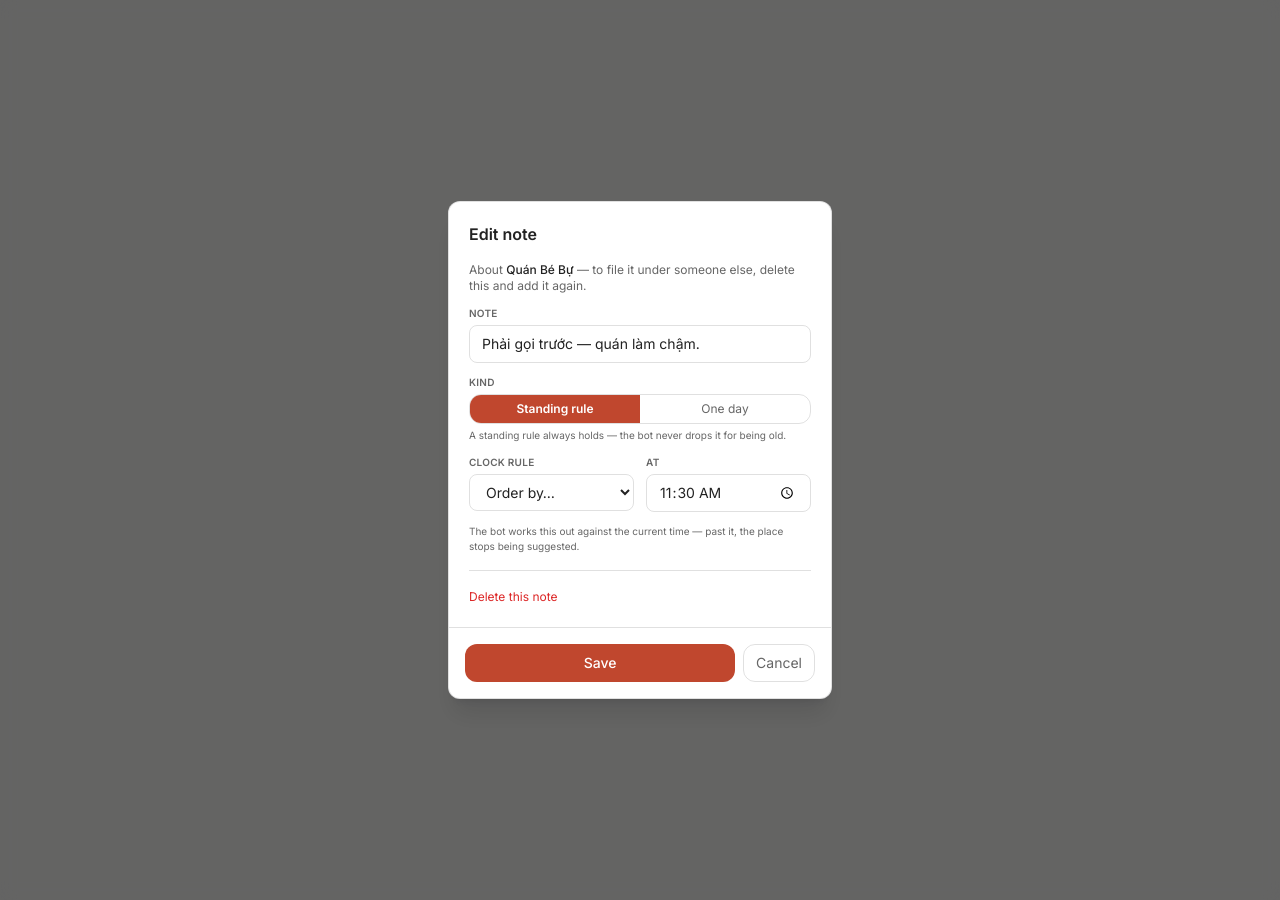
Test: NoteDialog — delete and conflict › reloads on a stale-etag conflict instead of retrying blind
The image size is (1280, 900).
Click the button "Save".
click(600, 663)  # box [465,644,735,682]
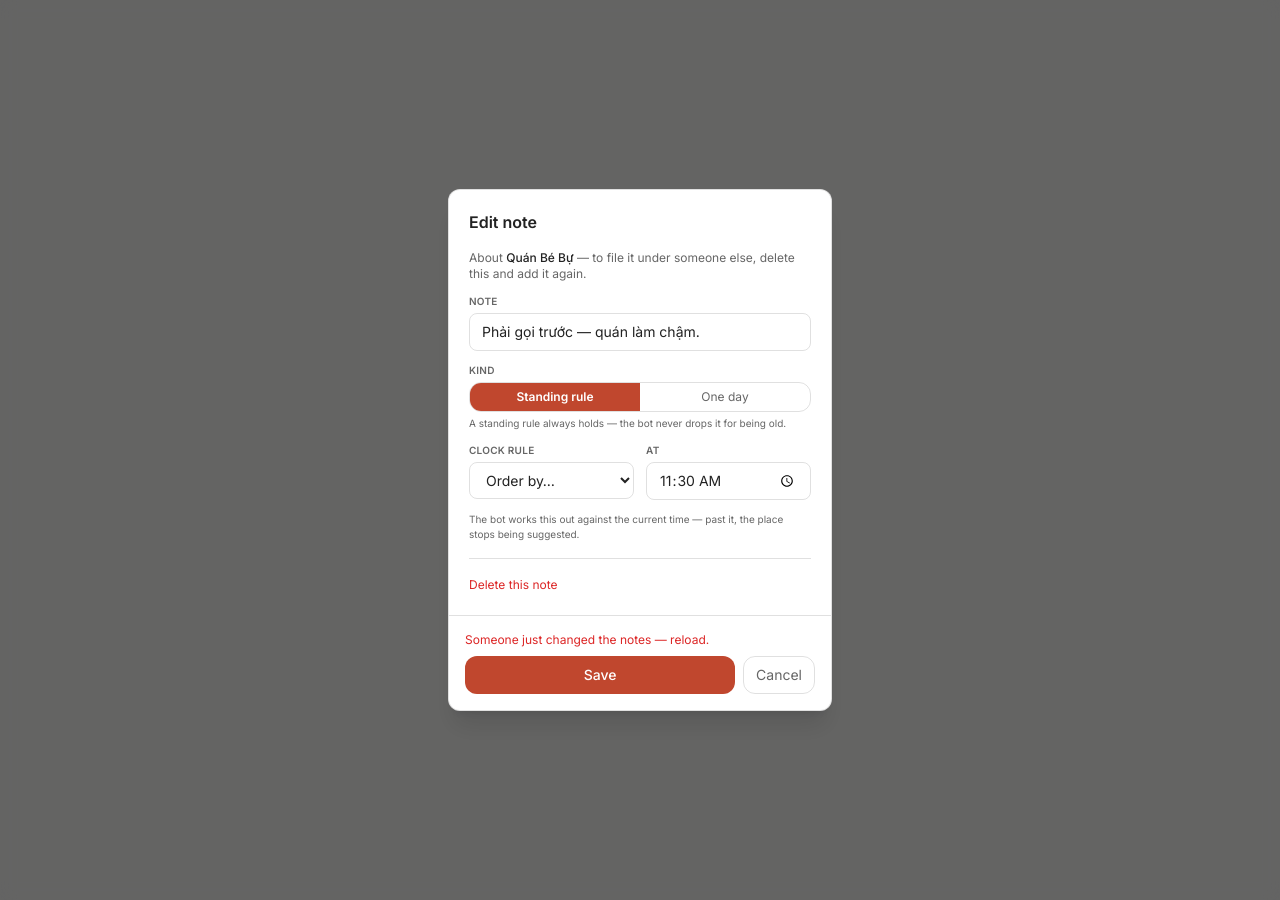
Expected: the text "Someone just changed the notes — reload." is shown, [465,632,709,647]
